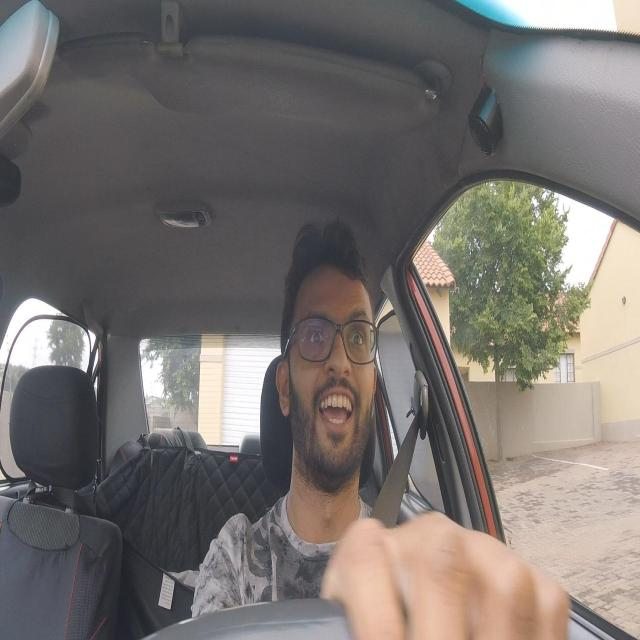open: (298, 307, 334, 358), (341, 306, 374, 358)
